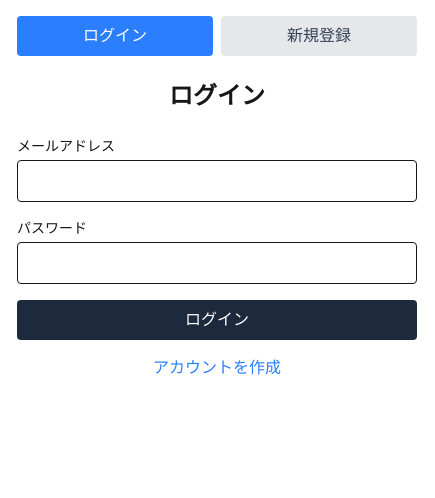
Scenario: AuthForm Component › 登録フォーム › should validate password confirmation match
Click the button "アカウントを作成". click: (217, 368)
box: [153,356,281,380]
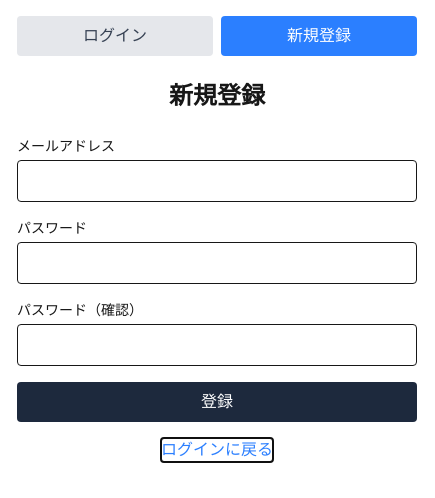
Type "test@example.com" into the field labelled "メールアドレス". click: (217, 181)
box: [17,160,417,202]
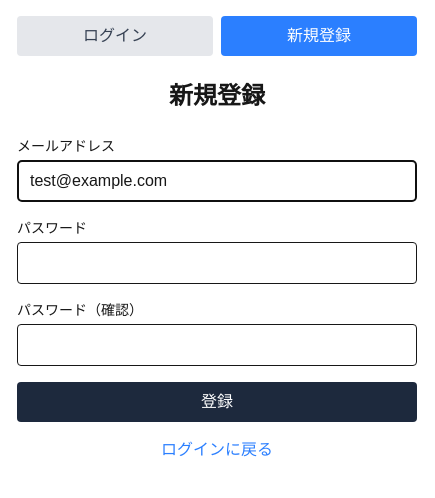
Type "ValidPassword123!" into the password field labelled "パスワード". click: (217, 263)
box: [17,242,417,284]
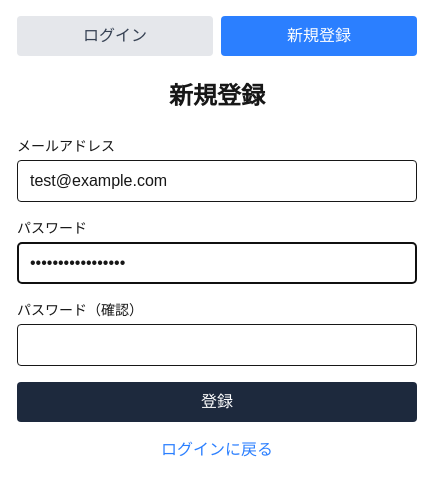
Type "DifferentPassword123!" into the password field labelled "パスワード（確認）". click: (217, 345)
box: [17,324,417,366]
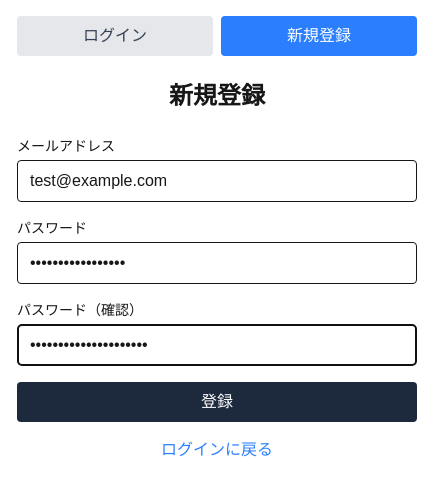
Click the button with test id "register-button". click: (217, 402)
box: [17,382,417,422]
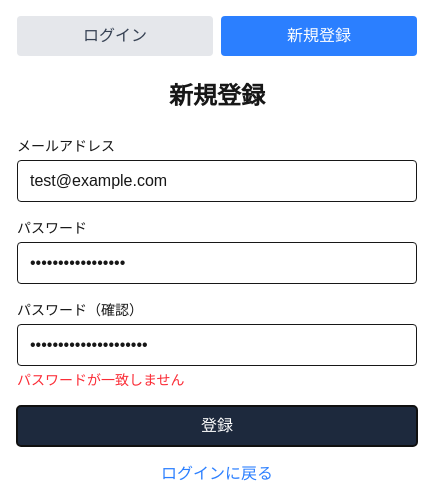
Expected: the text "パスワードが一致しません" is shown, [17,372,185,388]
